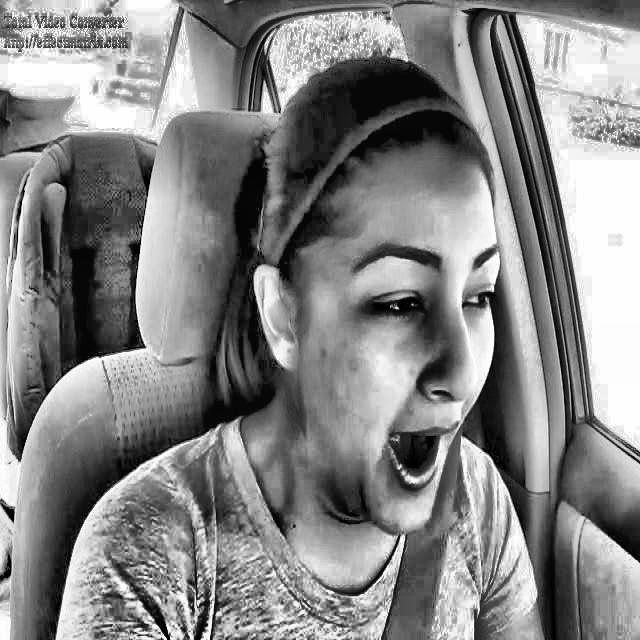open_eyes: (341, 273, 430, 331), (452, 271, 519, 324)
open_mouth: (372, 409, 464, 513)
